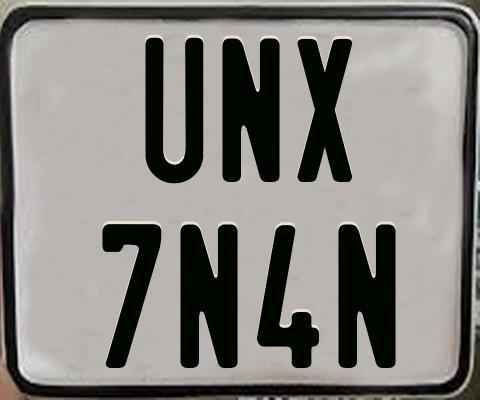4: (256, 223, 323, 366)
7: (99, 222, 159, 371)
N: (180, 221, 244, 366), (222, 36, 283, 185), (336, 221, 396, 371)
U: (145, 37, 209, 189)
X: (296, 38, 354, 187)
